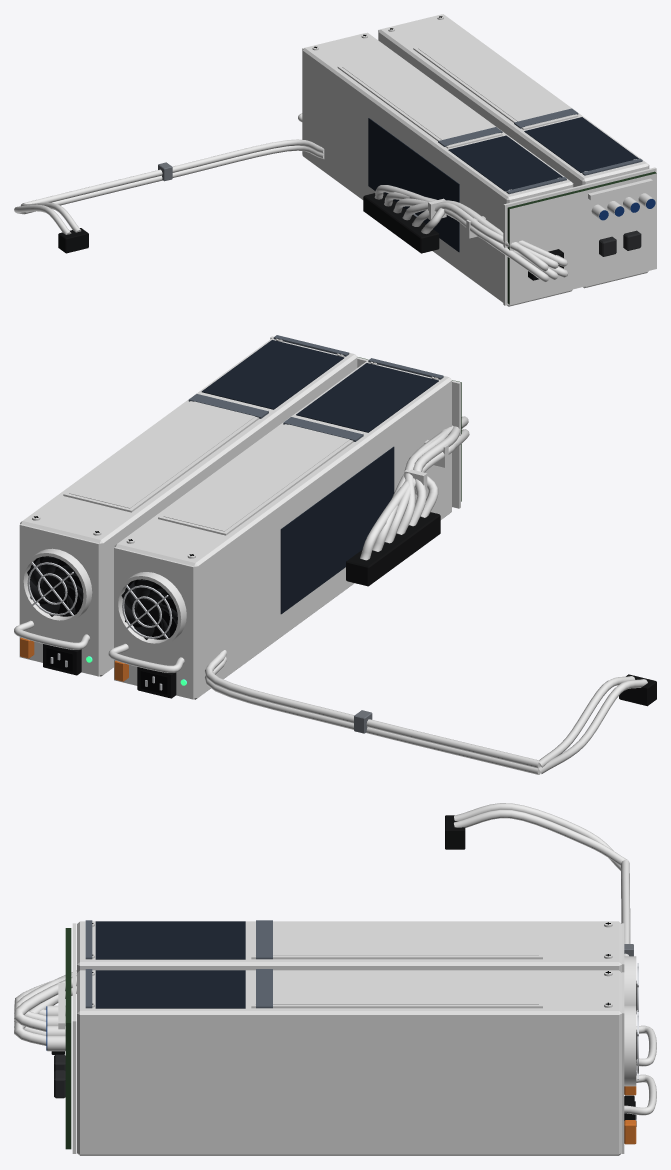
Rendered from hwm_psu_2400w_dual.glb.
3 views of the same model, one above another, from view 1: azimuth 30°, elevation 25°; view 2: azimuth 150°, elevation 25°; view 3: azimuth 270°, elevation 25° (orthographic). The views are drawn at different scales.
Visible parts, largest first — view 1: Body, Cable_ATX24, Cable_EPS_Run, Cable_EPS_Plug; view 2: Body, Cable_ATX24, Cable_EPS_Run, Cable_EPS_Plug; view 3: Body, Cable_EPS_Plug, Cable_ATX24, Cable_EPS_Run.
Boxes of the visible parts, x1,y1,x2,y2 form: Body: [298, 14, 656, 306]; Cable_ATX24: [363, 185, 568, 281]; Cable_EPS_Run: [23, 139, 324, 214]; Cable_EPS_Plug: [14, 202, 88, 253]; Body: [14, 335, 461, 699]; Cable_ATX24: [346, 416, 469, 586]; Cable_EPS_Run: [204, 650, 540, 774]; Cable_EPS_Plug: [538, 674, 656, 773]; Body: [46, 920, 656, 1155]; Cable_EPS_Plug: [445, 803, 627, 870]; Cable_ATX24: [14, 970, 76, 1054]; Cable_EPS_Run: [621, 859, 633, 956].
Bounding box in the file's own units: 0.4035 × 0.0958 × 0.3776.
